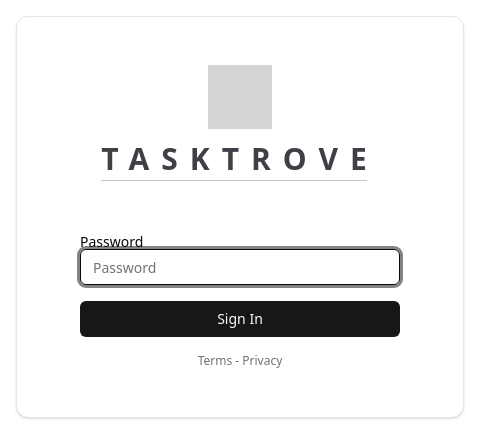
Scenario: LoginForm › Rendering › shows password visibility toggle button when there is text
This screenshot has width=481, height=436.
Type "test" into the password field with placeholder "Password" at (240, 267), box left=80, top=249, right=400, bottom=285
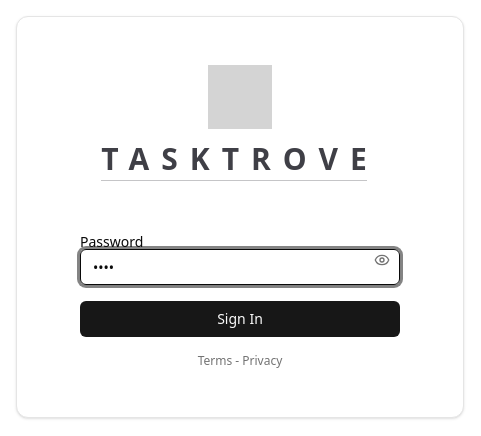
Check: the button named "Show password" is shown, box left=364, top=235, right=400, bottom=285
